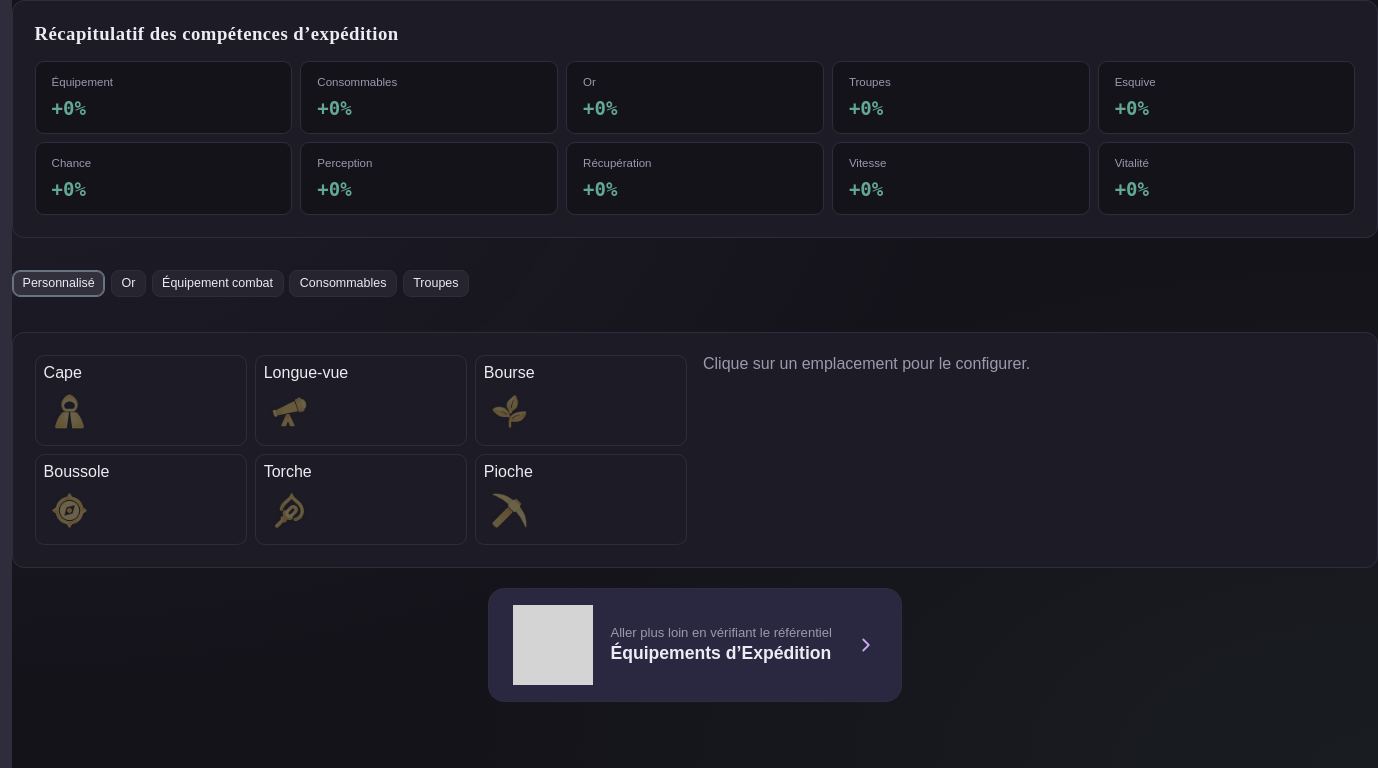
it: ExpeditionEquipmentSimulator › wraps the image and star in .stuff-slot-left so the star is centered under the image, not left-aligned (Bloc 79/A)
Click the button "Cape".
click(141, 400)  # box x1=35 y1=354 x2=247 y2=446
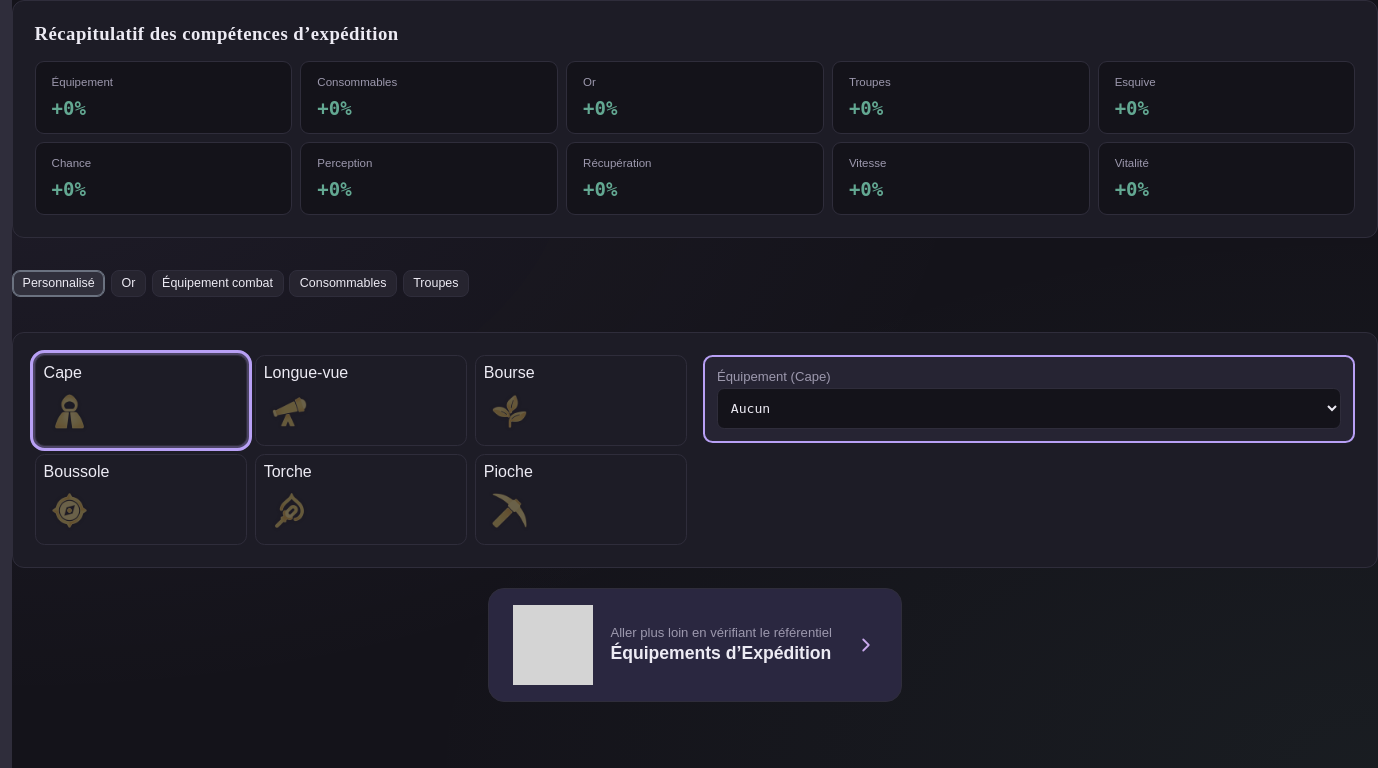
Select "Légendaire — Vanna (Or)" in the dropdown named "Équipement d’expédition Cape" at x=1029, y=409, box x1=717 y1=388 x2=1341 y2=429
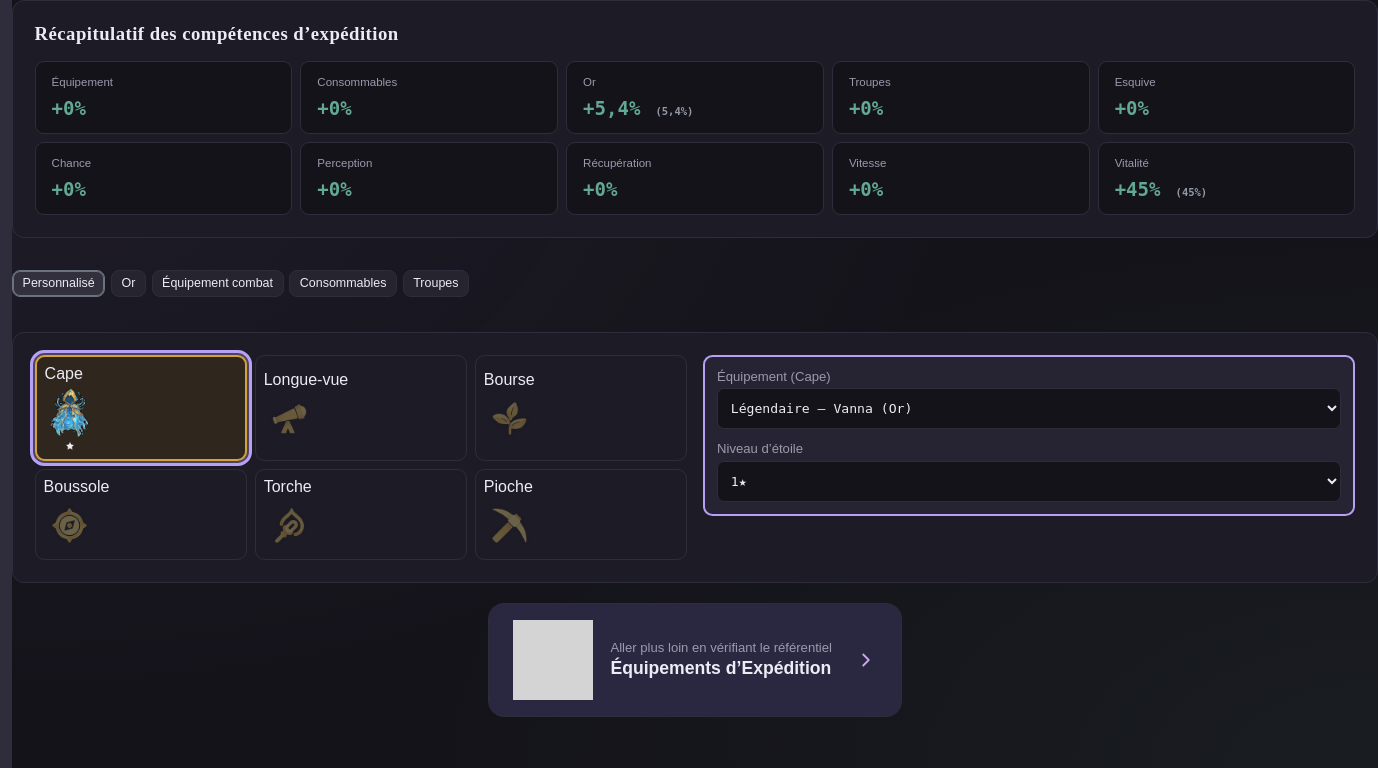
Check: the element with class "stuff-slot-left" is shown, box x1=45 y1=386 x2=96 y2=451
Check: the picture with class "star-rating" is shown, box x1=65 y1=441 x2=75 y2=451
